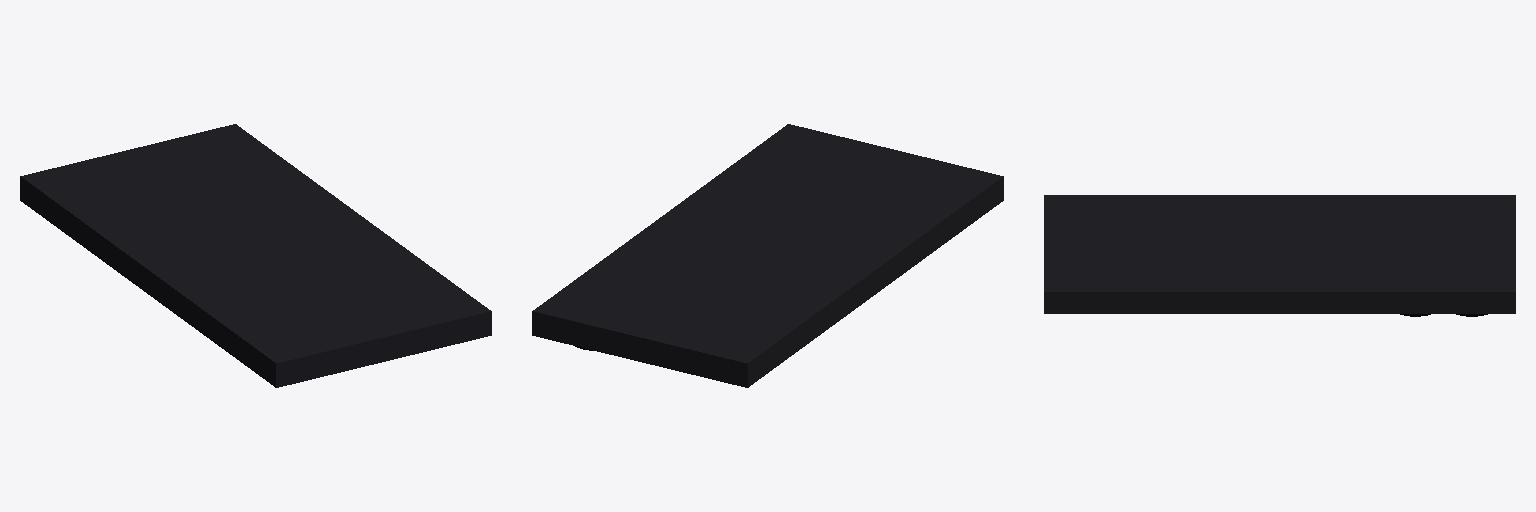
robot.urdf — iphone_16:
<?xml version="1.0"?>
<!-- iPhone 16: generated by imuninn from Apple's dimensional drawings (iphone-frames dataset). Frames: device = display centre on the front glass (x right, y top, z out of the screen); cam_*_optical = OpenCV axes. Geometry and mass are approximate. -->
<robot name="iphone_16">
  <material name="iphone_body">
    <color rgba="0.15 0.15 0.17 1" />
  </material>
  <material name="iphone_lens">
    <color rgba="0.05 0.05 0.06 1" />
  </material>
  <link name="device">
    <visual name="body">
      <origin xyz="5e-06 -5e-06 -0.003905" rpy="0 0 0" />
      <geometry>
        <box size="0.07163 0.14764 0.00781" />
      </geometry>
      <material name="iphone_body" />
    </visual>
    <collision name="body">
      <origin xyz="5e-06 -5e-06 -0.003905" rpy="0 0 0" />
      <geometry>
        <box size="0.07163 0.14764 0.00781" />
      </geometry>
    </collision>
    <visual name="lens_ultra_wide">
      <origin xyz="0.0222 0.060195 -0.00955" rpy="0 0 0" />
      <geometry>
        <cylinder radius="0.008" length="0.00348" />
      </geometry>
      <material name="iphone_lens" />
    </visual>
    <visual name="lens_main">
      <origin xyz="0.0222 0.042475 -0.00955" rpy="0 0 0" />
      <geometry>
        <cylinder radius="0.008" length="0.00348" />
      </geometry>
      <material name="iphone_lens" />
    </visual>
    <inertial>
      <origin xyz="5e-06 -5e-06 -0.003905" rpy="0 0 0" />
      <mass value="0.19" />
      <inertia ixx="0.000346094" ixy="0" ixz="0" iyy="8.22043e-05" iyz="0" izz="0.000426367" />
    </inertial>
  </link>
  <link name="magsafe" />
  <joint name="device_to_magsafe" type="fixed">
    <parent link="device" />
    <child link="magsafe" />
    <origin xyz="1e-05 -5e-06 -0.00781" rpy="3.14159265 0 3.14159265" />
  </joint>
  <link name="cam_ultra_wide_optical" />
  <joint name="device_to_cam_ultra_wide_optical" type="fixed">
    <parent link="device" />
    <child link="cam_ultra_wide_optical" />
    <origin xyz="0.0222 0.060195 -0.01129" rpy="3.14159265 0 -1.57079633" />
  </joint>
  <link name="cam_main_optical" />
  <joint name="device_to_cam_main_optical" type="fixed">
    <parent link="device" />
    <child link="cam_main_optical" />
    <origin xyz="0.0222 0.042475 -0.01129" rpy="3.14159265 0 -1.57079633" />
  </joint>
  <link name="cam_front_optical" />
  <joint name="device_to_cam_front_optical" type="fixed">
    <parent link="device" />
    <child link="cam_front_optical" />
    <origin xyz="0.0077 0.065635 0" rpy="0 0 1.57079633" />
  </joint>
  <link name="imu" />
  <joint name="device_to_imu" type="fixed">
    <parent link="device" />
    <child link="imu" />
    <origin xyz="0 0 0" rpy="0 0 0" />
  </joint>
</robot>

--- Render facts (derived) ---
3 views of the same robot in one strip: view 1: azimuth 30°, elevation 25°; view 2: azimuth 150°, elevation 25°; view 3: azimuth 270°, elevation 25° (orthographic).
Model iphone_16 with 6 links and 5 joints (5 fixed), rooted at device, posed all joints at 0.
Links seen in each view (by area): view 1: device; view 2: device; view 3: device.
Boxes of the visible links, <box> form: device: <box>20,124,491,387</box>; device: <box>532,124,1003,387</box>; device: <box>1044,195,1515,316</box>.
Size in the robot's own frame: 0.0716 by 0.1476 by 0.0113 metres.
Geometry: primitives only (box / cylinder / sphere), no mesh files.
